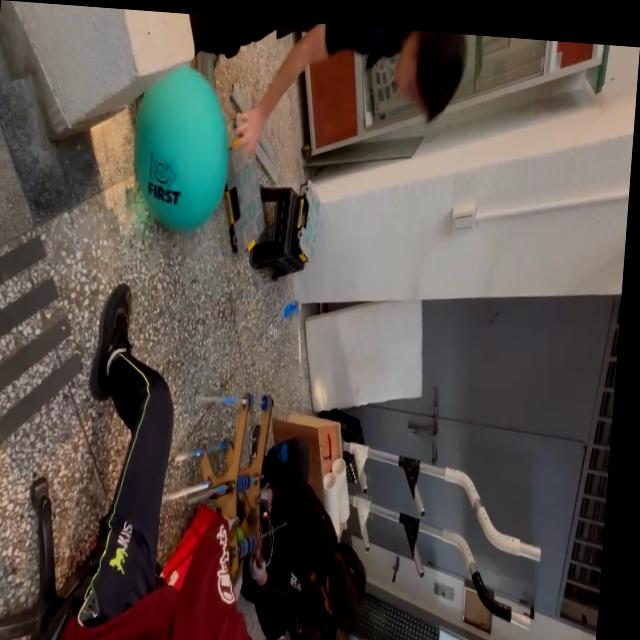ALGAE: (126, 59, 236, 236)
